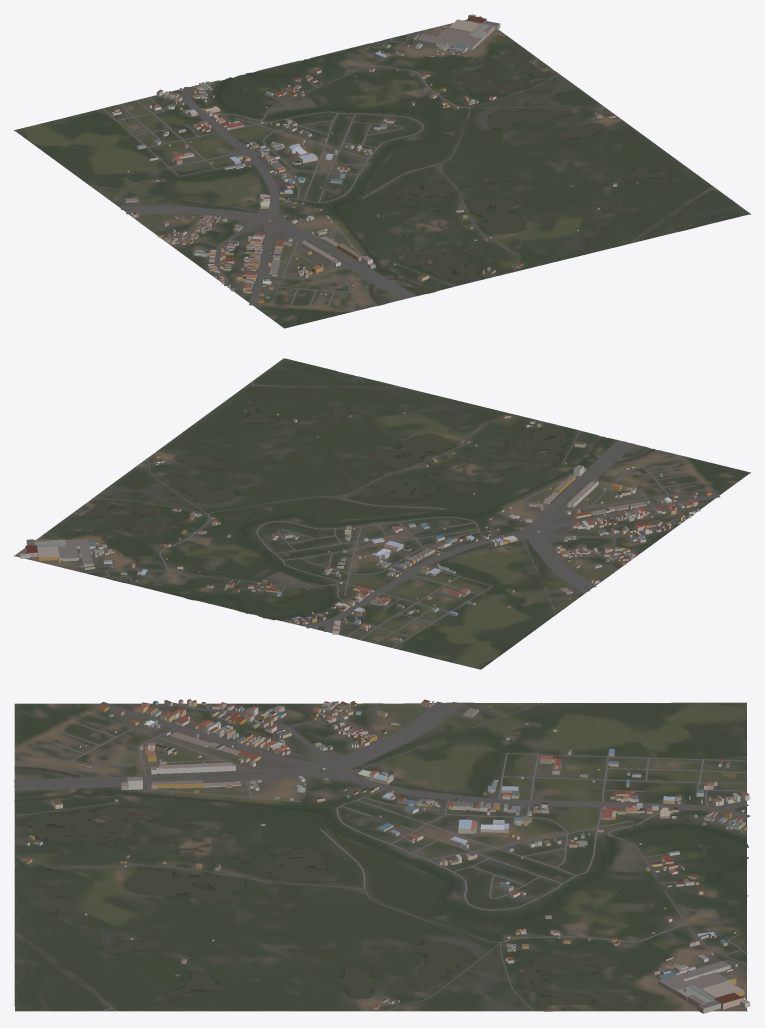
3 views of the same model, one above another, from view 1: azimuth 30°, elevation 25°; view 2: azimuth 150°, elevation 25°; view 3: azimuth 270°, elevation 25° (orthographic). The views are drawn at different scales.
Visible parts, largest first — view 1: ground, buildings, roads, water; view 2: ground, buildings, roads, water; view 3: ground, buildings, roads, water.
Boxes of the visible parts, box(x1,y1,x2,y2) form: ground: box(14, 16, 750, 328); buildings: box(111, 14, 638, 302); roads: box(89, 33, 718, 307); water: box(214, 41, 692, 305); ground: box(14, 358, 750, 669); buildings: box(19, 412, 711, 642); roads: box(86, 381, 720, 647); water: box(84, 373, 655, 618); ground: box(14, 702, 747, 1011); buildings: box(21, 699, 750, 1013); roads: box(14, 701, 750, 1011); water: box(14, 766, 748, 1009).
Bounding box in the file's own units: 1416 × 22.85 × 1411.
